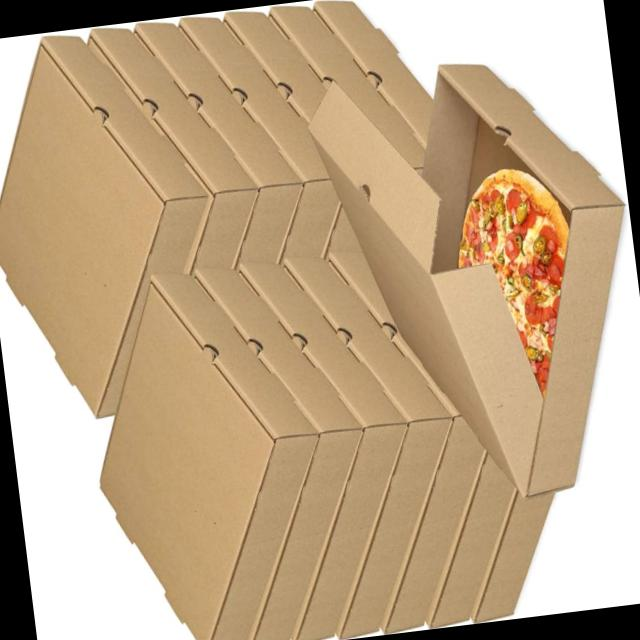cardboard_box: (60, 200, 573, 640), (292, 0, 627, 560), (0, 31, 212, 437)
